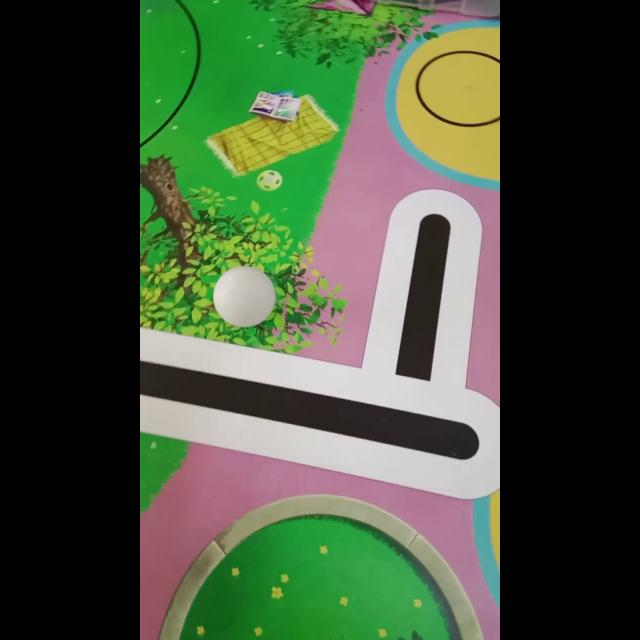white ball: (212, 264, 276, 328)
